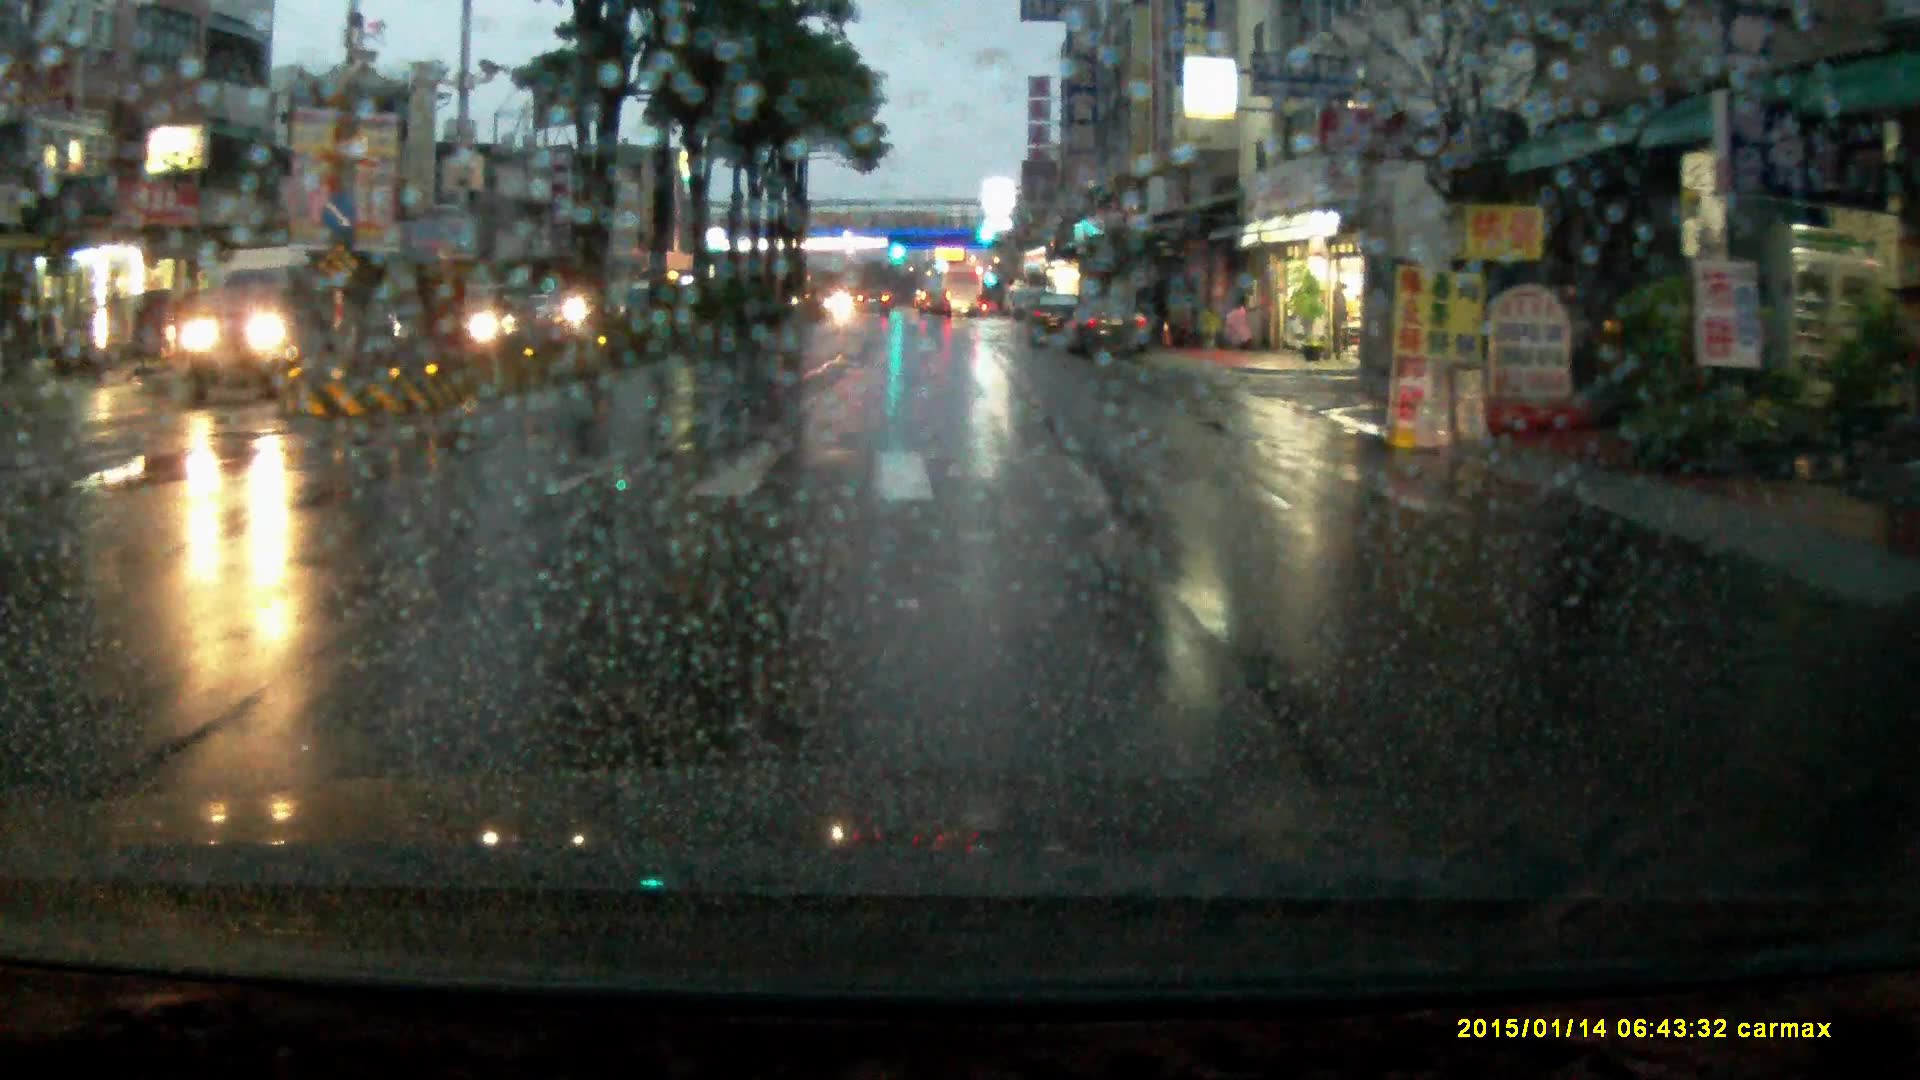vehicle: (174, 243, 411, 406), (409, 284, 541, 355), (1062, 291, 1153, 360), (1026, 290, 1083, 343), (940, 268, 984, 323), (920, 284, 953, 322), (855, 287, 891, 318)
